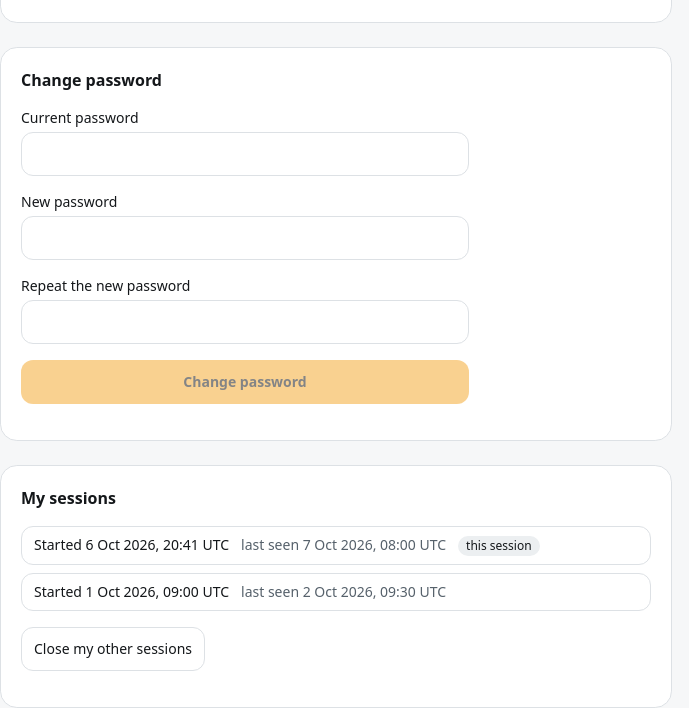
Test: My account › lists sessions, marks this one, and 'Close my other sessions' posts then reloads
This screenshot has width=689, height=708.
(page scrolled)
Expected: the text "this session" is shown, [458,536,540,556]
Expected: the text "Started 6 Oct 2026, 20:41 UTC" is shown 2 times, [34,535,229,555]; [34,582,229,602]
Click the button "Close my other sessions".
click(113, 649)  # box [21,627,205,671]
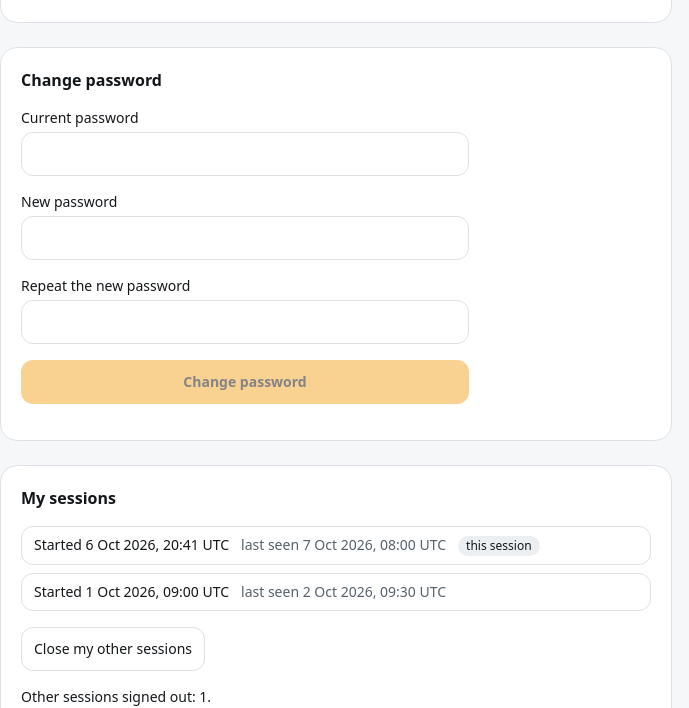
Result: the text "Other sessions signed out: 1." is shown at [21,687,211,706]
